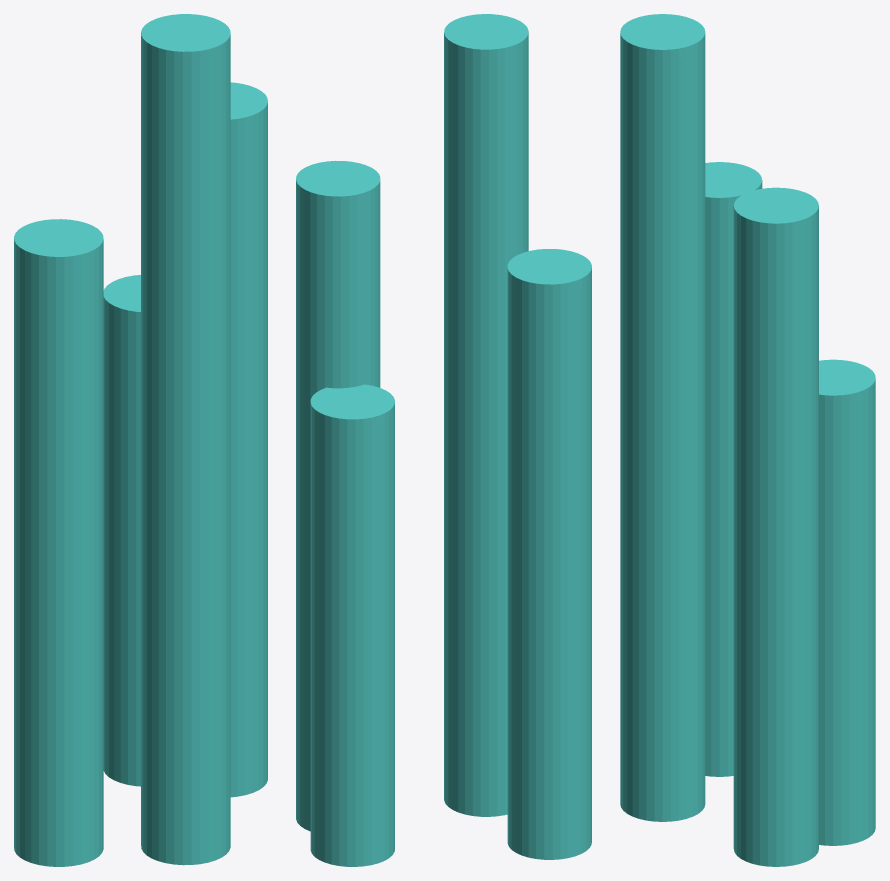
Rendered from coral_tube.glb.
3 renders of one model, left to right at view 1: azimuth 30°, elevation 25°; view 2: azimuth 150°, elevation 25°; view 3: azimuth 270°, elevation 25°, orthographic. The views are drawn at different scales.
Visible parts, largest first — view 1: Cylinder, Cylinder.001, Cylinder.002, Cylinder.003; view 2: Cylinder, Cylinder.001, Cylinder.003, Cylinder.002; view 3: Cylinder, Cylinder.002, Cylinder.003, Cylinder.001.
Boxes of the visible parts, <box> form: Cylinder: <box>141,14,230,865</box>; Cylinder.001: <box>14,219,103,866</box>; Cylinder.002: <box>230,82,267,797</box>; Cylinder.003: <box>103,275,140,786</box>; Cylinder: <box>444,14,528,816</box>; Cylinder.001: <box>507,249,591,859</box>; Cylinder.003: <box>310,384,394,866</box>; Cylinder.002: <box>296,160,380,831</box>; Cylinder: <box>620,14,705,821</box>; Cylinder.002: <box>733,187,818,866</box>; Cylinder.003: <box>819,359,875,845</box>; Cylinder.001: <box>705,162,762,776</box>.
Bounding box in the file's own units: 0.42 × 1.2 × 0.36.
